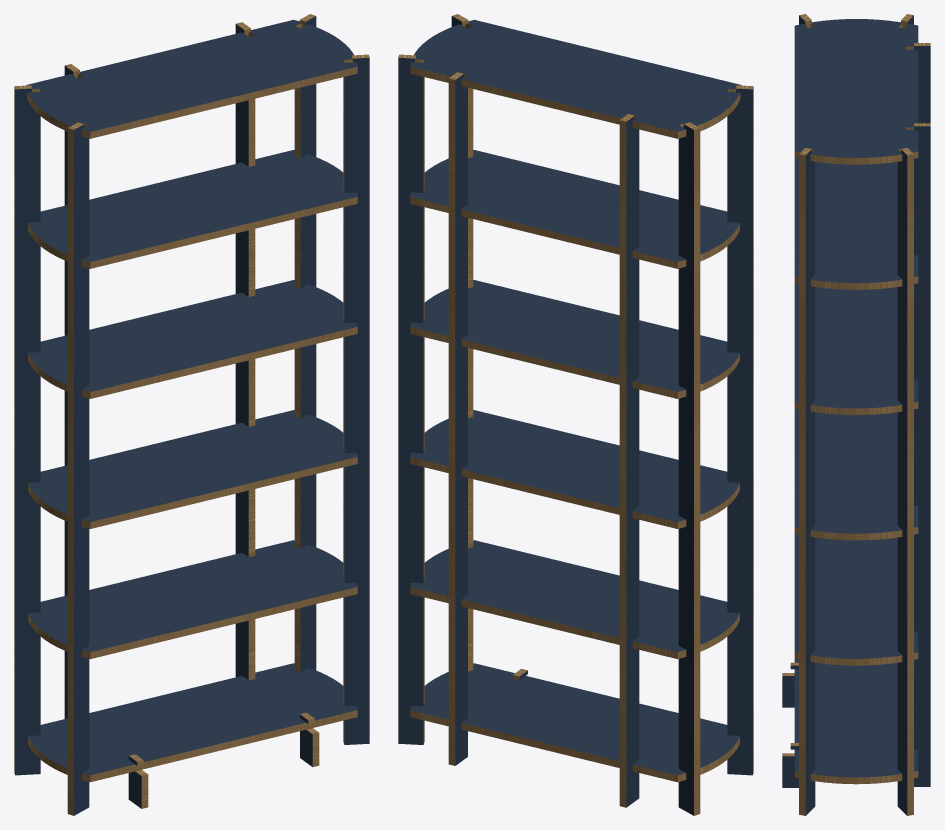
Rendered from NODO_BIBLIOTECA_CUARZO_V1.glb.
The picture shows the model from 3 angles, left to right: view 1: azimuth 30°, elevation 25°; view 2: azimuth 150°, elevation 25°; view 3: azimuth 270°, elevation 25°; orthographic projection. The views are drawn at different scales.
Visible parts, largest first — view 1: Estante_6, Estante_2, Estante_5, Estante_3, Estante_4, Estante_1, Lateral_derecho_frente, Lateral_izquierdo_atras, Lateral_izquierdo_frente, Lateral_derecho_atras, Montante_trasero_2, Montante_trasero_1 (+2 smaller); view 2: Estante_6, Lateral_derecho_atras, Lateral_izquierdo_frente, Estante_2, Estante_3, Estante_5, Estante_4, Estante_1, Lateral_izquierdo_atras, Montante_trasero_1, Montante_trasero_2, Lateral_derecho_frente; view 3: Estante_6, Estante_5, Estante_2, Estante_3, Estante_4, Lateral_derecho_frente, Lateral_derecho_atras, Estante_1, Montante_trasero_2, Montante_trasero_1, Apoyo_frontal_2, Apoyo_frontal_1.
Part boxes in pixels (x1,y1,x2,y2): Estante_6: (26, 19, 357, 138); Estante_2: (28, 540, 357, 659); Estante_5: (28, 150, 357, 268); Estante_3: (28, 410, 357, 528); Estante_4: (28, 280, 357, 398); Estante_1: (28, 663, 357, 782); Lateral_derecho_frente: (343, 54, 369, 744); Lateral_izquierdo_atras: (14, 85, 40, 775); Lateral_izquierdo_frente: (67, 122, 89, 815); Lateral_derecho_atras: (294, 14, 316, 671); Montante_trasero_2: (235, 22, 255, 680); Montante_trasero_1: (64, 64, 79, 718); Estante_6: (410, 19, 741, 138); Lateral_derecho_atras: (398, 54, 424, 744); Lateral_izquierdo_frente: (727, 85, 753, 775); Estante_2: (410, 540, 739, 659); Estante_3: (410, 410, 739, 528); Estante_5: (410, 150, 739, 268); Estante_4: (410, 280, 739, 398); Estante_1: (410, 663, 739, 782); Lateral_izquierdo_atras: (678, 122, 700, 815); Montante_trasero_1: (619, 114, 639, 807); Montante_trasero_2: (448, 72, 467, 765); Lateral_derecho_frente: (451, 14, 473, 671); Estante_6: (794, 19, 918, 164); Estante_5: (794, 158, 918, 289); Estante_2: (794, 534, 918, 665); Estante_3: (794, 408, 918, 540); Estante_4: (794, 283, 918, 415); Lateral_derecho_frente: (799, 148, 815, 815); Lateral_derecho_atras: (897, 148, 913, 815); Estante_1: (794, 659, 918, 784); Montante_trasero_2: (914, 123, 930, 786); Montante_trasero_1: (914, 43, 930, 123); Apoyo_frontal_2: (782, 743, 798, 787); Apoyo_frontal_1: (782, 662, 798, 707).
Size of the model in its own units: 0.8138 by 1.77 by 0.36.
2 materials, 2 textured.
